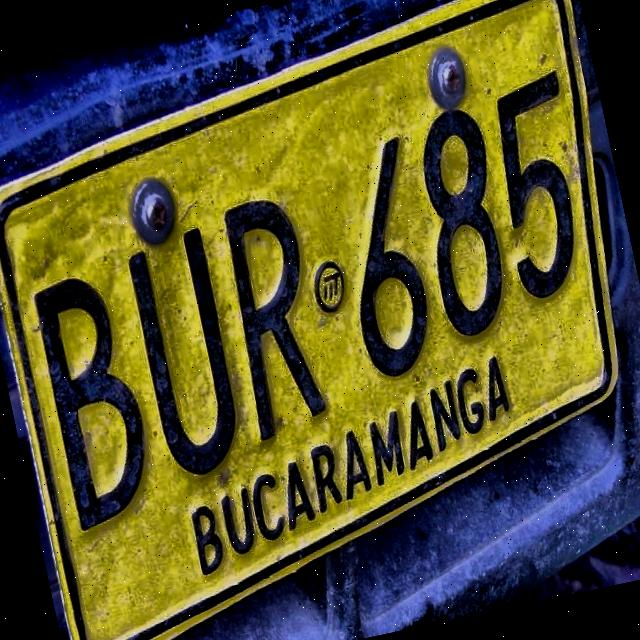5: (486, 62, 584, 315)
6: (322, 128, 441, 383)
8: (408, 94, 512, 357)
B: (22, 267, 168, 545)
R: (207, 189, 335, 448)
U: (112, 215, 250, 500)
